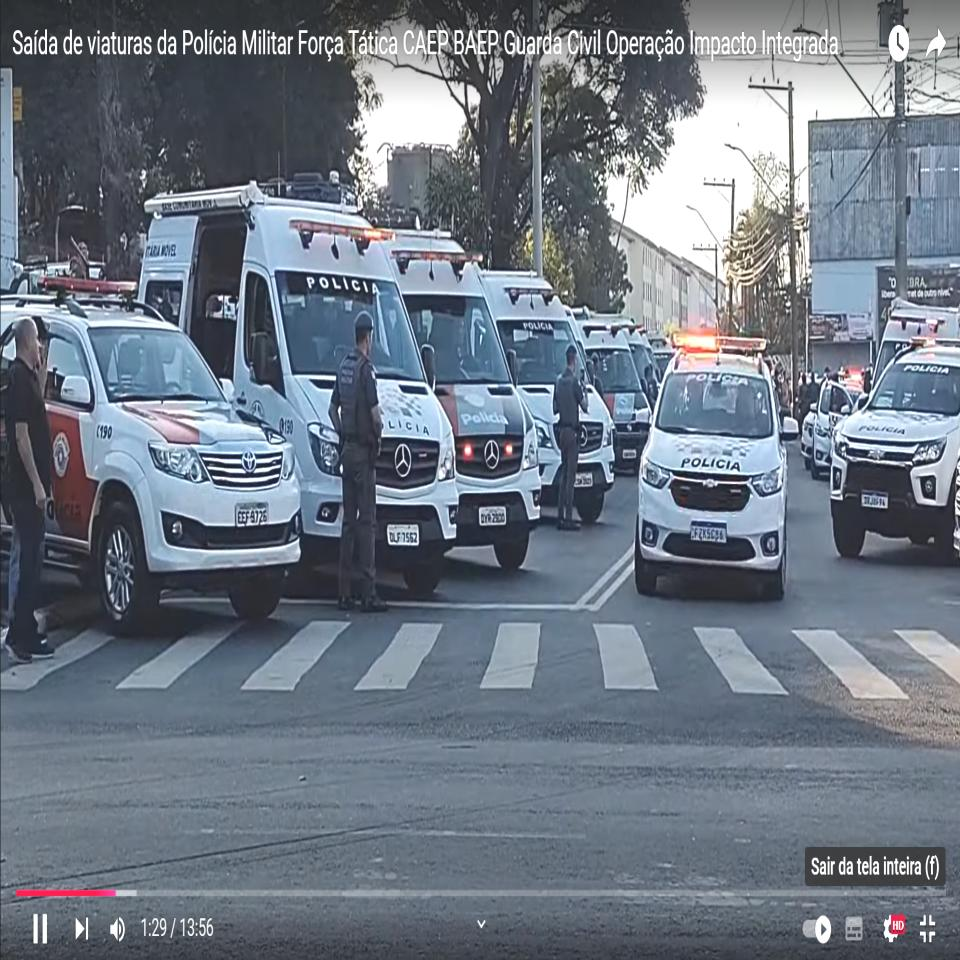viatura: (50, 270, 303, 636), (631, 326, 799, 599), (825, 329, 960, 563)
